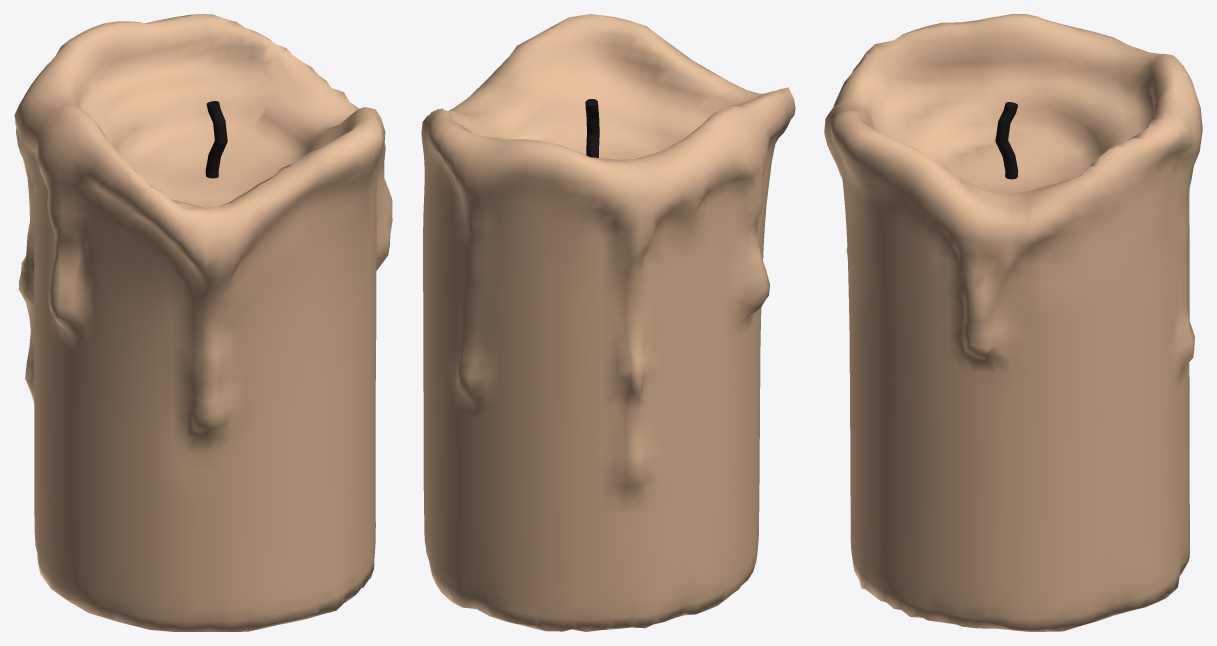
Rendered from candle.fbx.
3 views of the same model, side by side, from view 1: azimuth 30°, elevation 25°; view 2: azimuth 150°, elevation 25°; view 3: azimuth 270°, elevation 25° (orthographic).
Parts seen in each view (by area): view 1: Wax, Wick; view 2: Wax, Wick; view 3: Wax, Wick.
Boxes of the visible parts, x1=… form: Wax: x1=14, y1=14, x2=392, y2=631; Wick: x1=205, y1=101, x2=227, y2=178; Wax: x1=421, y1=14, x2=795, y2=631; Wick: x1=585, y1=99, x2=599, y2=157; Wax: x1=824, y1=14, x2=1202, y2=631; Wick: x1=995, y1=102, x2=1018, y2=179.
Bounding box in the file's own units: 224 × 315 × 222.
